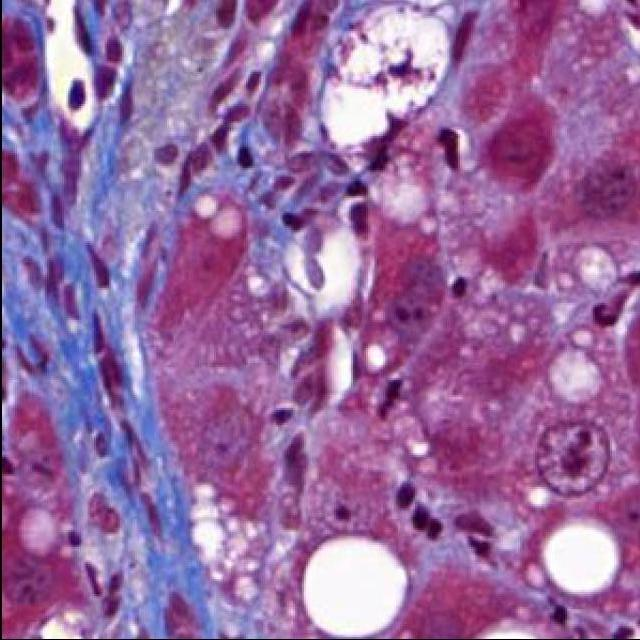inflammation: (536, 426, 606, 495), (367, 120, 408, 172), (437, 130, 472, 172), (283, 434, 306, 495), (411, 505, 441, 541), (377, 380, 399, 420), (348, 204, 368, 239), (83, 564, 102, 598), (591, 305, 616, 329), (67, 80, 85, 112), (394, 482, 414, 510), (466, 538, 488, 558), (281, 214, 304, 232), (344, 181, 366, 198), (271, 409, 292, 426), (236, 148, 252, 170), (332, 505, 350, 524), (449, 278, 465, 299), (551, 606, 566, 628), (1, 456, 14, 476)
